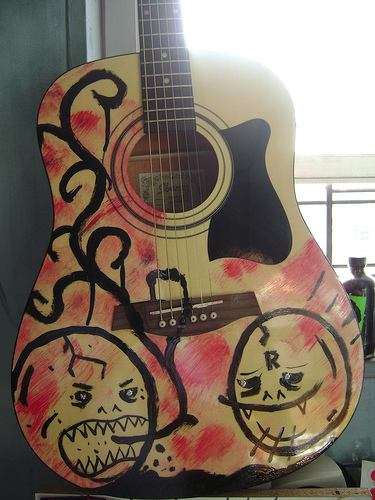guitar: (9, 1, 366, 496)
